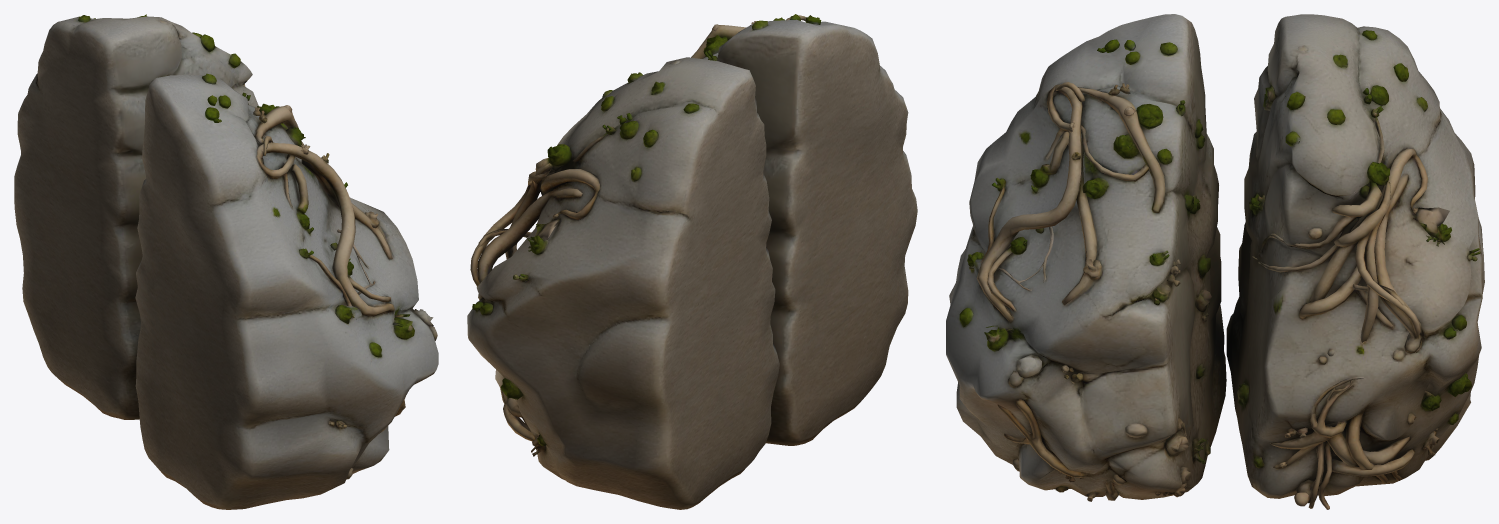
The model's file is jun_boulder_cluster_split_b.glb.
3 renders of one model, left to right at view 1: azimuth 30°, elevation 25°; view 2: azimuth 150°, elevation 25°; view 3: azimuth 270°, elevation 25°, orthographic. The views are drawn at different scales.
Visible parts, largest first — view 1: tripo_node_0cf42a20-0608-4773-b27a-2f9978b49fdc; view 2: tripo_node_0cf42a20-0608-4773-b27a-2f9978b49fdc; view 3: tripo_node_0cf42a20-0608-4773-b27a-2f9978b49fdc.
Boxes of the visible parts, x1,y1,x2,y2 form: tripo_node_0cf42a20-0608-4773-b27a-2f9978b49fdc: (14,14,438,509); tripo_node_0cf42a20-0608-4773-b27a-2f9978b49fdc: (467,14,917,509); tripo_node_0cf42a20-0608-4773-b27a-2f9978b49fdc: (946,14,1484,509).
Bounding box in the file's own units: 0.5254 × 0.8691 × 0.998.
Materials: 1 (1 with a texture image).
